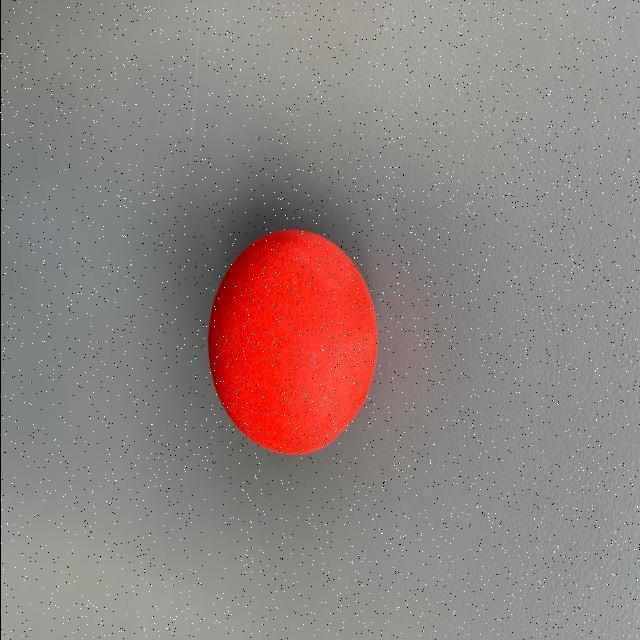ping-pong-ball: (207, 230, 385, 457)
